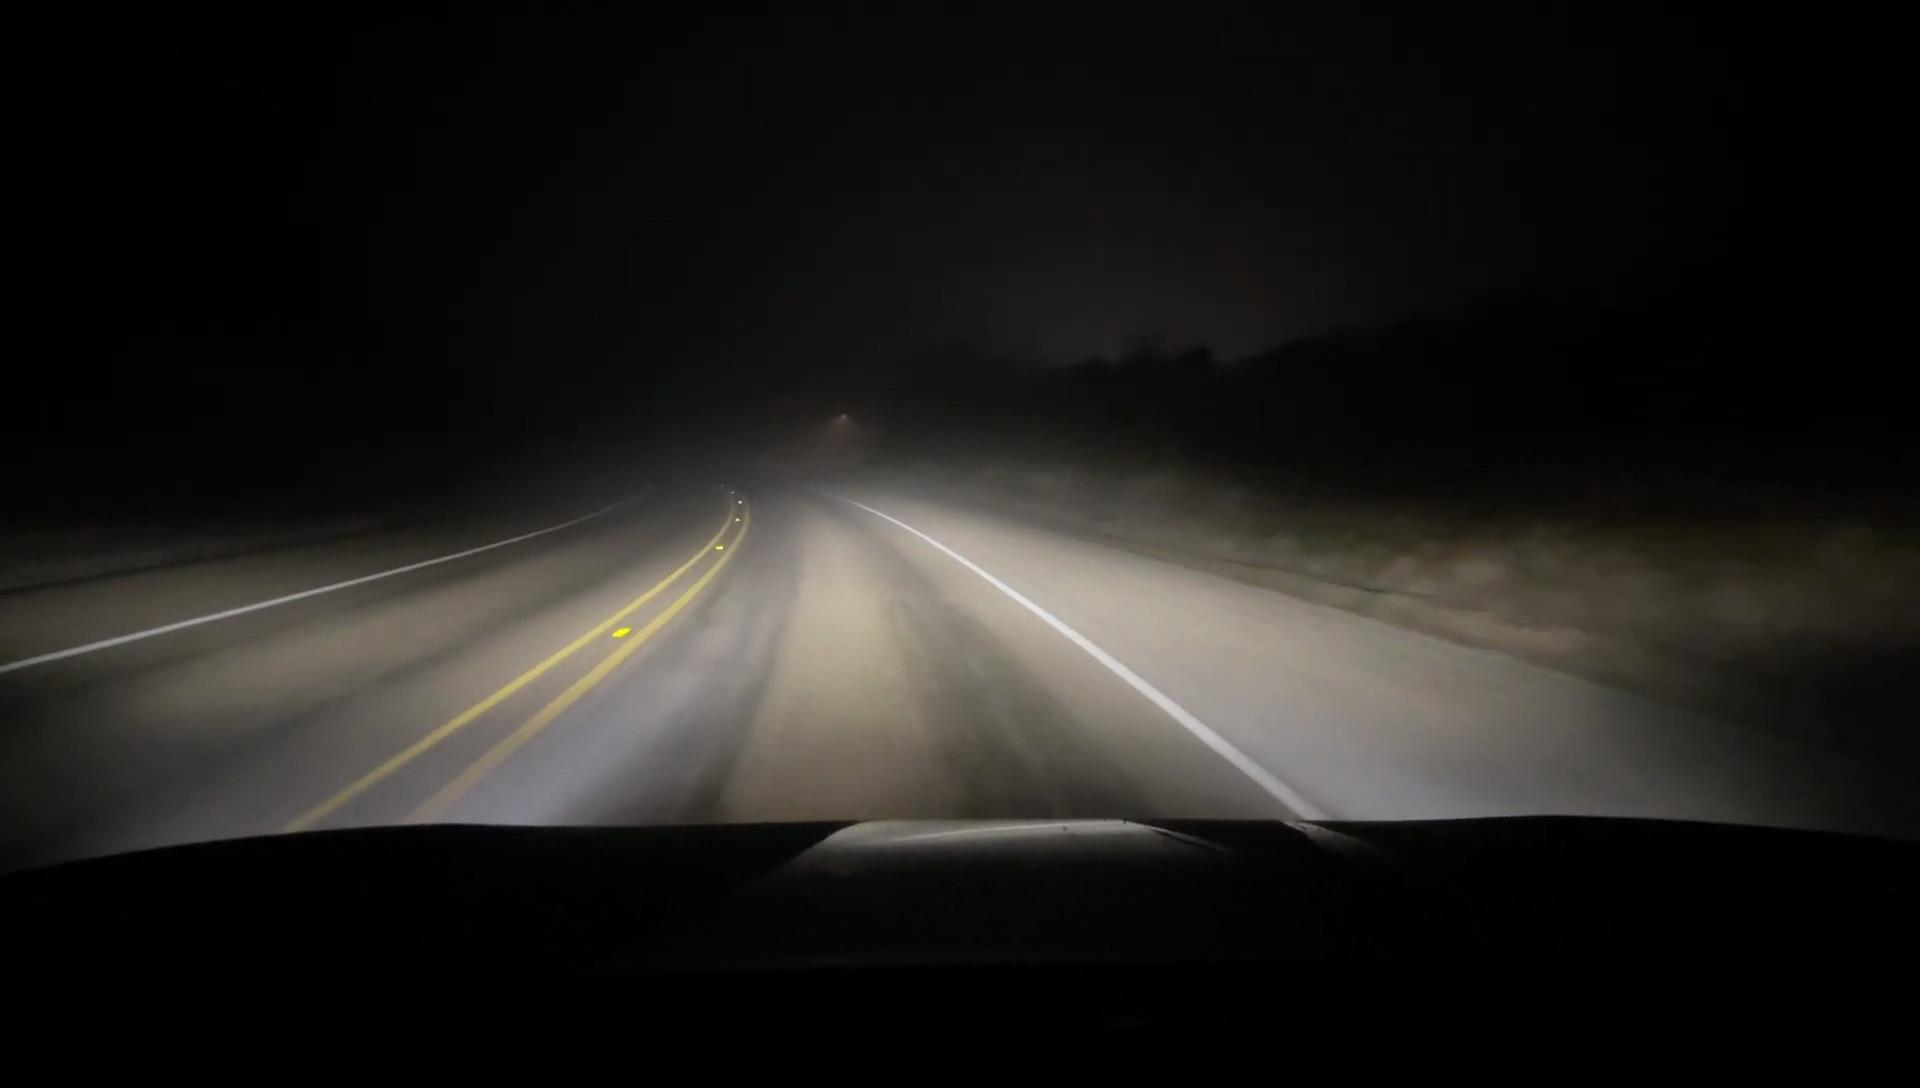road-lanes: (463, 500, 1291, 812)
